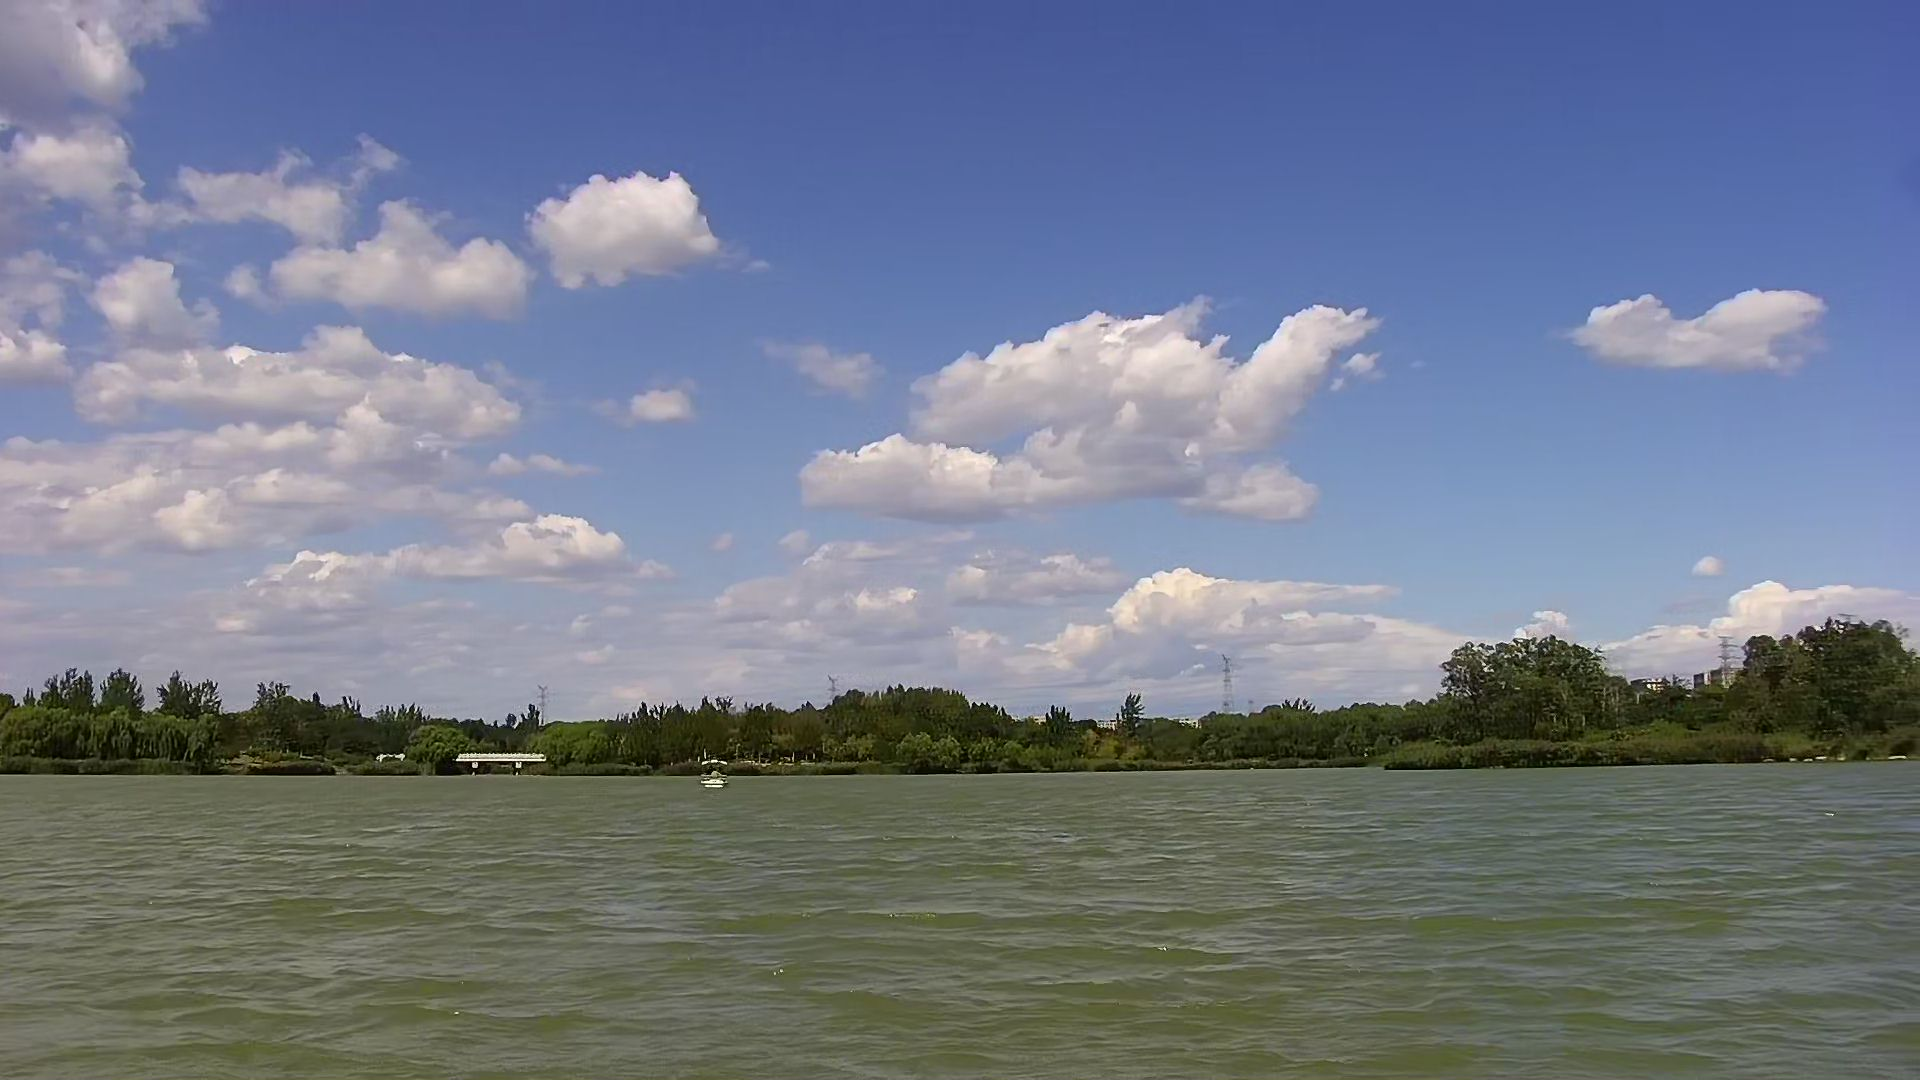boat: (691, 765, 733, 796)
harbor: (439, 749, 551, 773)
